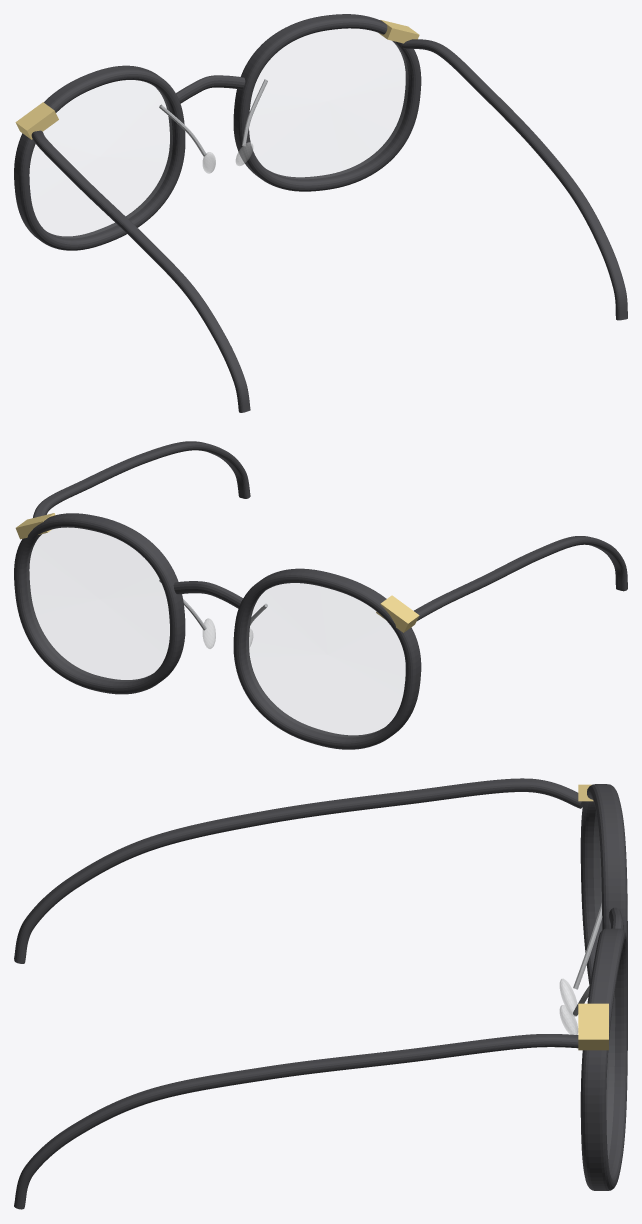
Rendered from glasses.glb.
3 renders of one model, top to bottom at view 1: azimuth 30°, elevation 25°; view 2: azimuth 150°, elevation 25°; view 3: azimuth 270°, elevation 25°, orthographic. The views are drawn at different scales.
Parts seen in each view (by area): view 1: rim_R, rim_L, temple_R, temple_L, bridge, gold_L; view 2: rim_L, rim_R, temple_L, temple_R, bridge, gold_L; view 3: rim_R, temple_L, temple_R, rim_L, gold_R.
Part boxes in pixels (<box>): rim_R: <box>233,14,421,191</box>; rim_L: <box>14,65,185,250</box>; temple_R: <box>402,39,627,320</box>; temple_L: <box>31,130,250,412</box>; bridge: <box>176,75,245,103</box>; gold_L: <box>15,102,58,139</box>; rim_L: <box>233,568,421,749</box>; rim_R: <box>14,513,185,694</box>; temple_L: <box>414,536,627,620</box>; temple_R: <box>33,441,250,517</box>; bridge: <box>173,581,242,608</box>; gold_L: <box>376,595,419,632</box>; rim_R: <box>580,928,627,1190</box>; temple_L: <box>14,778,583,963</box>; temple_R: <box>14,1034,578,1209</box>; rim_L: <box>580,784,627,984</box>; gold_R: <box>578,1003,608,1050</box>.
Size of the model in its own units: 12.74 by 5.06 by 12.46.
